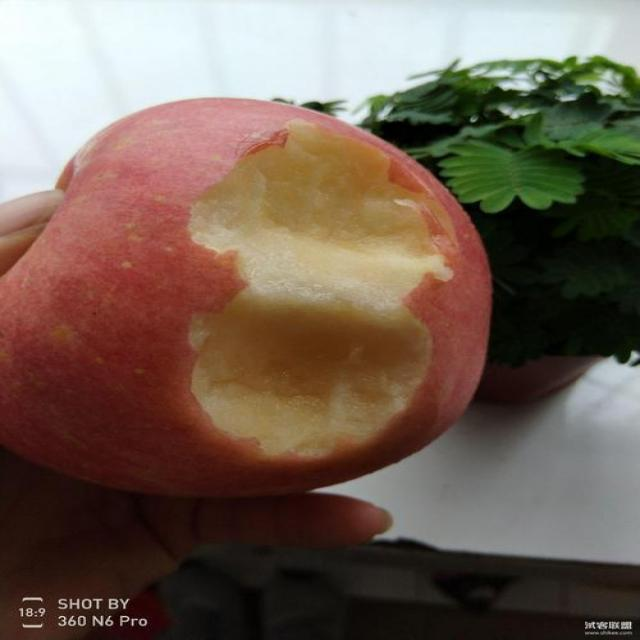Rotten: (11, 101, 488, 488)
